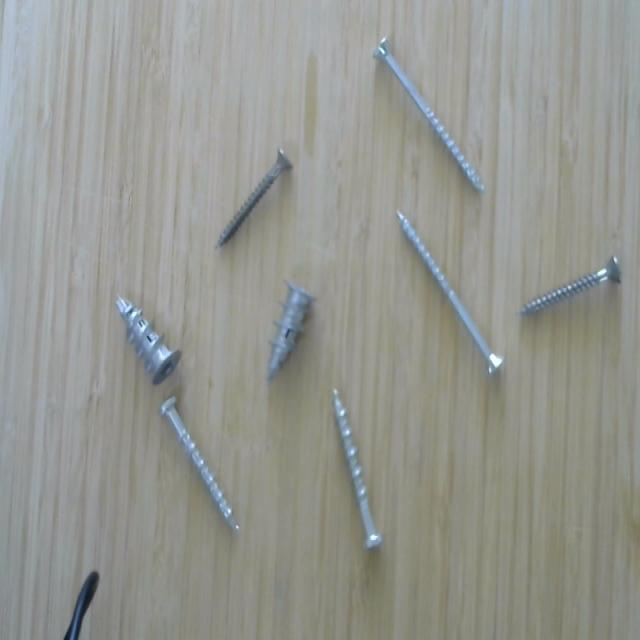Black screw: (211, 139, 299, 261), (520, 249, 628, 327)
Long screw: (389, 206, 511, 387), (370, 28, 489, 198)
Medium screw: (157, 396, 248, 538), (323, 383, 387, 557)
Short screw: (112, 280, 184, 392), (260, 272, 320, 388)
